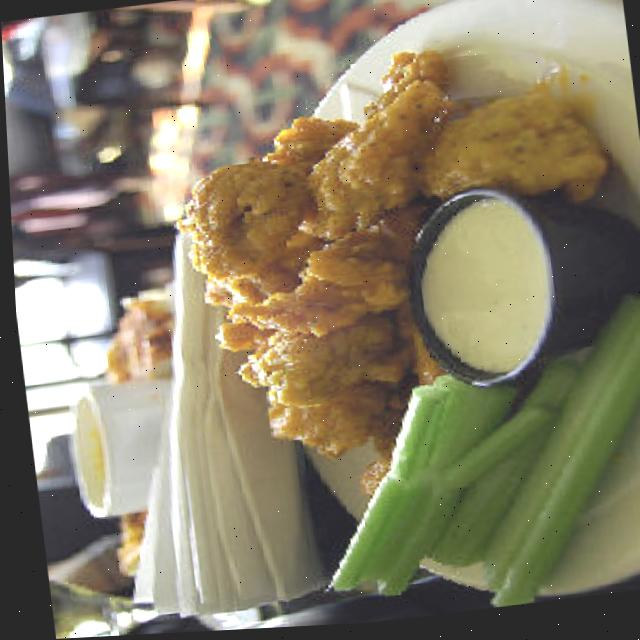鸡肉料理 含炸鸡: (116, 0, 640, 538)
